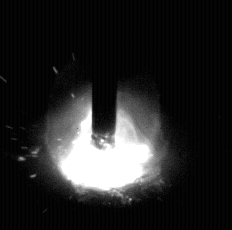arame: (93, 0, 117, 150)
poca: (44, 0, 168, 230)
